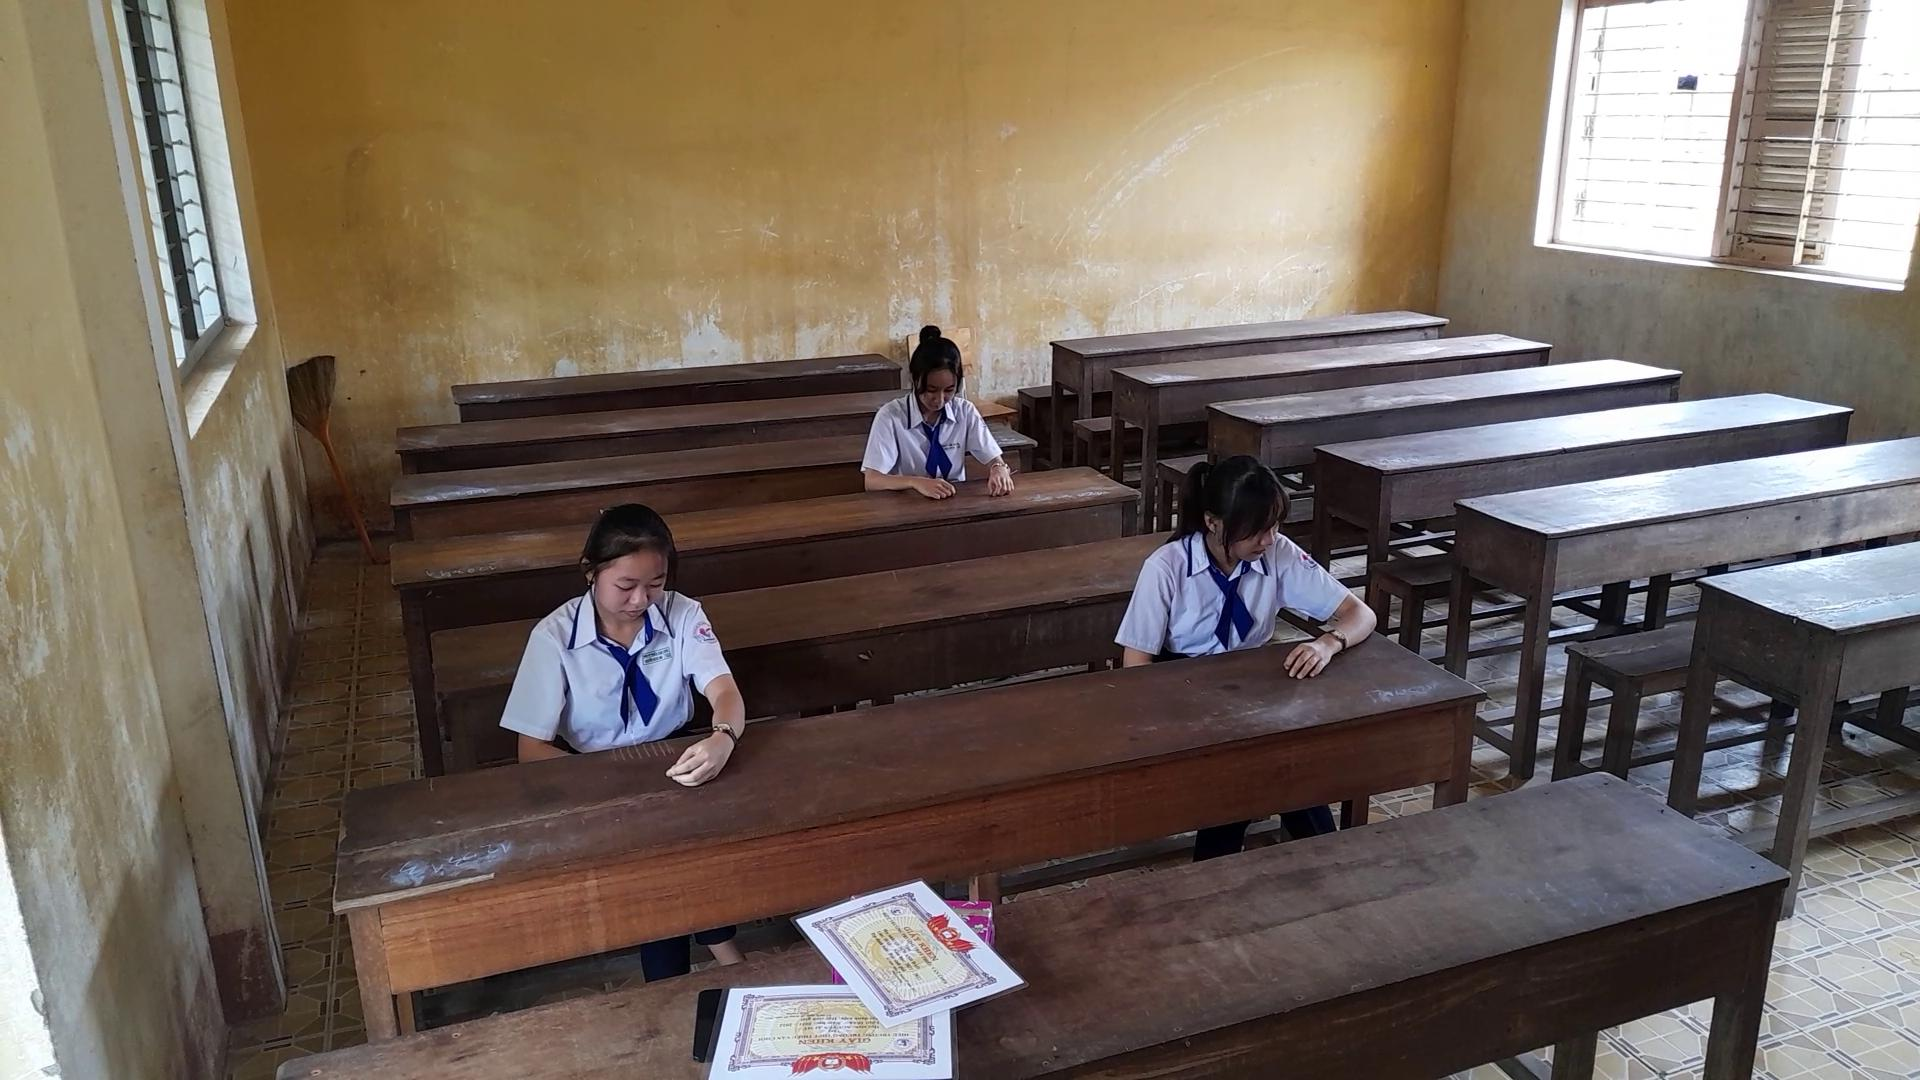Bend Over The Desk: (1172, 436, 1295, 579), (551, 492, 673, 634), (870, 298, 992, 440)
Hand Under Table: (1102, 538, 1179, 687), (502, 615, 579, 764)
